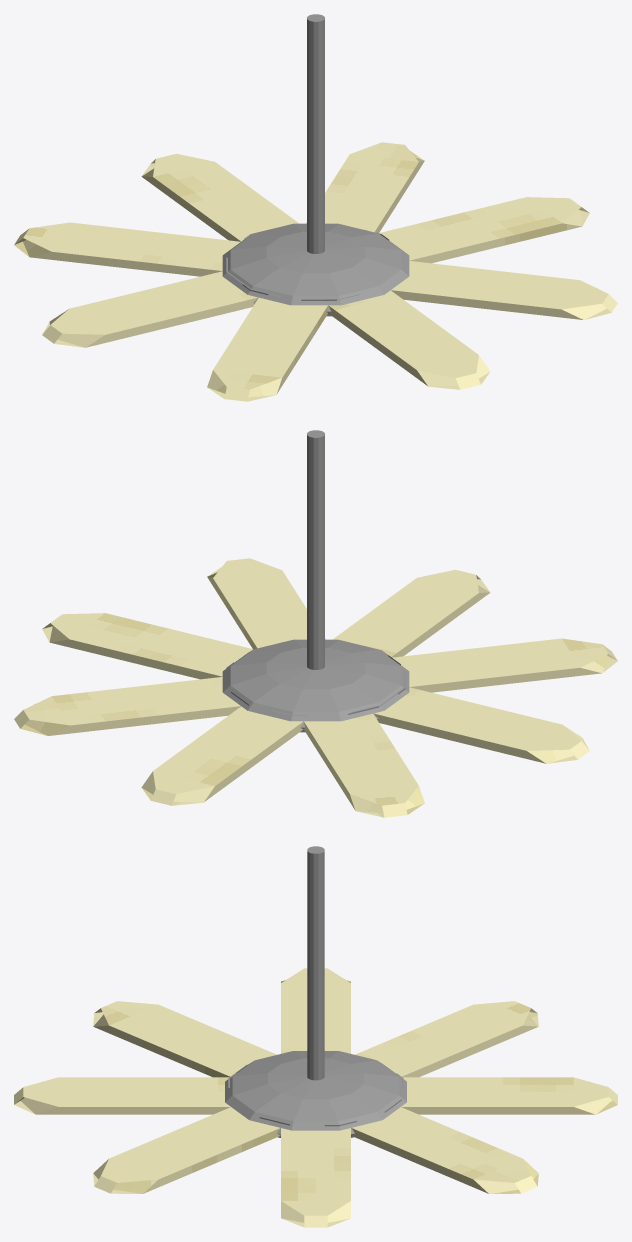
Rendered from FAN_RAHHH.fbx.
3 renders of one model, top to bottom at view 1: azimuth 30°, elevation 25°; view 2: azimuth 150°, elevation 25°; view 3: azimuth 270°, elevation 25°, orthographic. The views are drawn at different scales.
Visible parts, largest first — view 1: cuboid_3, cuboid_1, cuboid, cuboid_2, sphere, cylinder; view 2: cuboid_2, cuboid_1, cuboid, cuboid_3, sphere, cylinder; view 3: cuboid, cuboid_3, cuboid_2, sphere, cuboid_1, cylinder.
Part boxes in pixels (left/top/right/bottom): cuboid_3: left=14, top=222, right=617, bottom=319; cuboid_1: left=42, top=197, right=589, bottom=347; cuboid: left=141, top=153, right=490, bottom=389; cuboid_2: left=207, top=142, right=424, bottom=401; sphere: left=222, top=223, right=409, bottom=316; cylinder: left=307, top=14, right=324, bottom=253; cuboid_2: left=14, top=638, right=617, bottom=735; cuboid_1: left=42, top=613, right=589, bottom=763; cuboid: left=141, top=569, right=490, bottom=805; cuboid_3: left=207, top=558, right=424, bottom=817; sphere: left=222, top=639, right=409, bottom=732; cylinder: left=307, top=430, right=324, bottom=669; cuboid: left=14, top=1077, right=617, bottom=1114; cuboid_3: left=93, top=1001, right=538, bottom=1193; cuboid_2: left=93, top=1001, right=538, bottom=1193; sphere: left=225, top=1051, right=406, bottom=1136; cuboid_1: left=281, top=968, right=350, bottom=1227; cylinder: left=307, top=846, right=324, bottom=1080.
Size of the model in its own units: 216 by 105 by 216.
4 materials, 4 textured.
